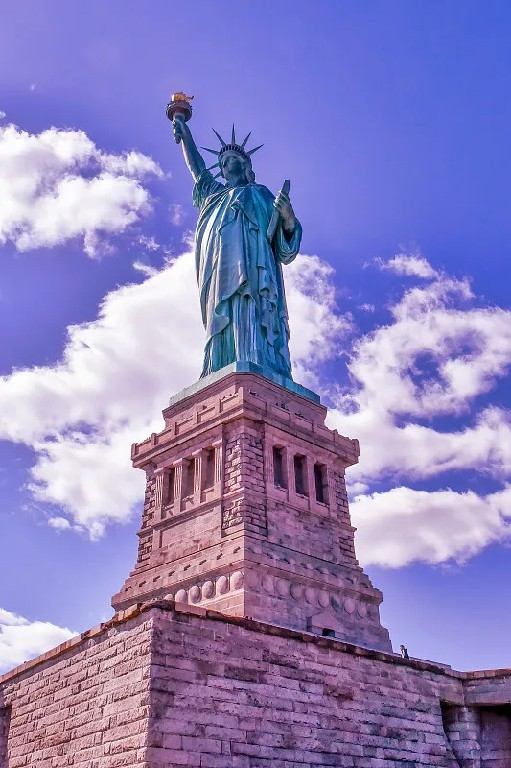SL: (111, 91, 394, 653)
